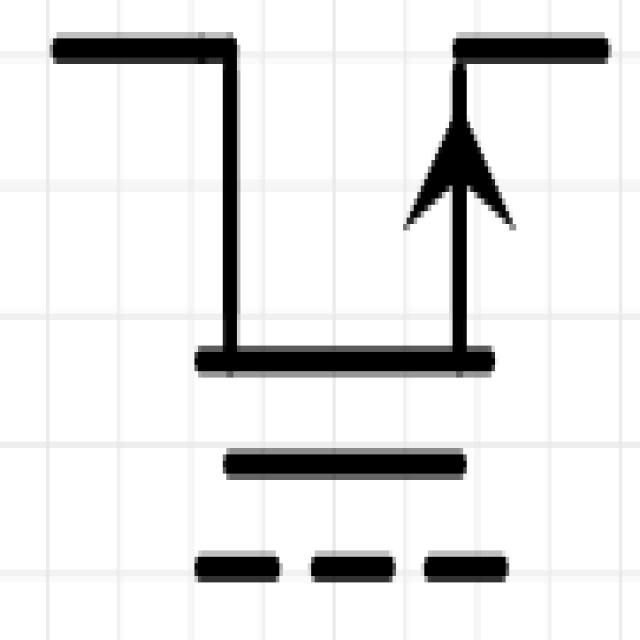nmos: (38, 1, 629, 636)
